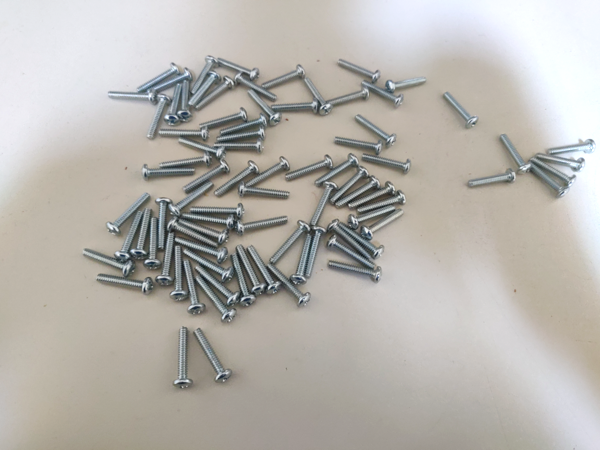longscrew: (195, 328, 232, 383), (79, 244, 137, 278), (266, 263, 309, 308), (269, 220, 311, 265), (325, 236, 379, 271), (194, 267, 240, 307), (326, 222, 373, 261), (166, 180, 216, 215), (195, 277, 232, 322), (108, 192, 149, 232), (249, 244, 280, 295), (163, 222, 215, 252), (169, 222, 221, 252), (235, 246, 266, 296), (529, 159, 567, 199), (180, 251, 232, 280), (179, 222, 231, 251), (216, 162, 259, 197), (531, 157, 577, 189), (227, 252, 254, 305), (328, 168, 370, 202), (355, 112, 397, 146), (95, 272, 154, 296), (327, 259, 383, 284), (317, 153, 358, 187), (342, 223, 385, 255), (336, 177, 383, 206), (351, 182, 398, 210), (175, 137, 227, 162), (183, 165, 231, 192), (444, 90, 478, 128), (235, 73, 279, 102), (244, 90, 281, 124), (248, 158, 292, 186), (501, 133, 531, 174), (197, 78, 234, 111), (360, 192, 408, 217), (534, 154, 588, 176), (136, 64, 178, 92), (362, 211, 404, 239), (338, 57, 381, 84), (304, 225, 324, 282), (348, 206, 395, 230), (311, 182, 336, 227), (117, 211, 139, 262), (332, 135, 383, 157), (362, 80, 405, 106), (216, 56, 262, 80), (286, 156, 334, 179), (362, 152, 412, 174), (260, 64, 303, 89), (189, 69, 218, 106), (321, 88, 374, 108), (200, 108, 248, 130), (183, 215, 231, 237), (304, 76, 331, 115), (158, 229, 174, 290), (170, 246, 186, 307), (185, 258, 201, 319), (175, 328, 191, 389), (465, 171, 518, 189), (548, 139, 598, 158), (157, 128, 209, 146), (134, 208, 152, 260), (240, 183, 289, 202), (190, 205, 252, 220), (220, 115, 266, 135), (233, 219, 292, 234), (192, 56, 214, 96), (142, 164, 196, 180), (295, 234, 311, 286), (105, 90, 156, 106), (152, 71, 192, 91), (149, 93, 165, 142), (271, 100, 320, 115), (213, 129, 269, 142), (161, 157, 211, 171), (386, 75, 430, 90), (213, 141, 265, 153), (156, 199, 168, 251), (146, 217, 157, 273), (166, 82, 178, 127), (179, 80, 191, 121)
